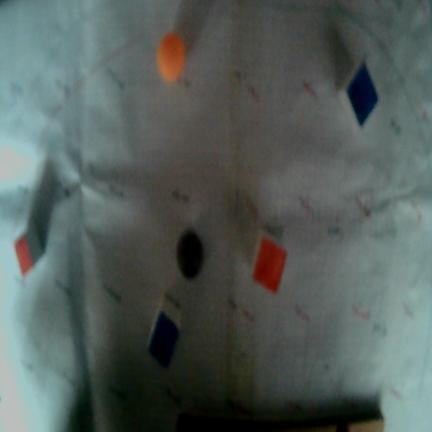circle_blue: (177, 229, 203, 278)
circle_orange: (157, 32, 185, 82)
rectangle_blue: (149, 310, 178, 368)
rectangle_orange: (149, 310, 178, 368), (13, 235, 32, 278)
square_blue: (345, 60, 380, 127)
square_orange: (253, 236, 287, 292)
